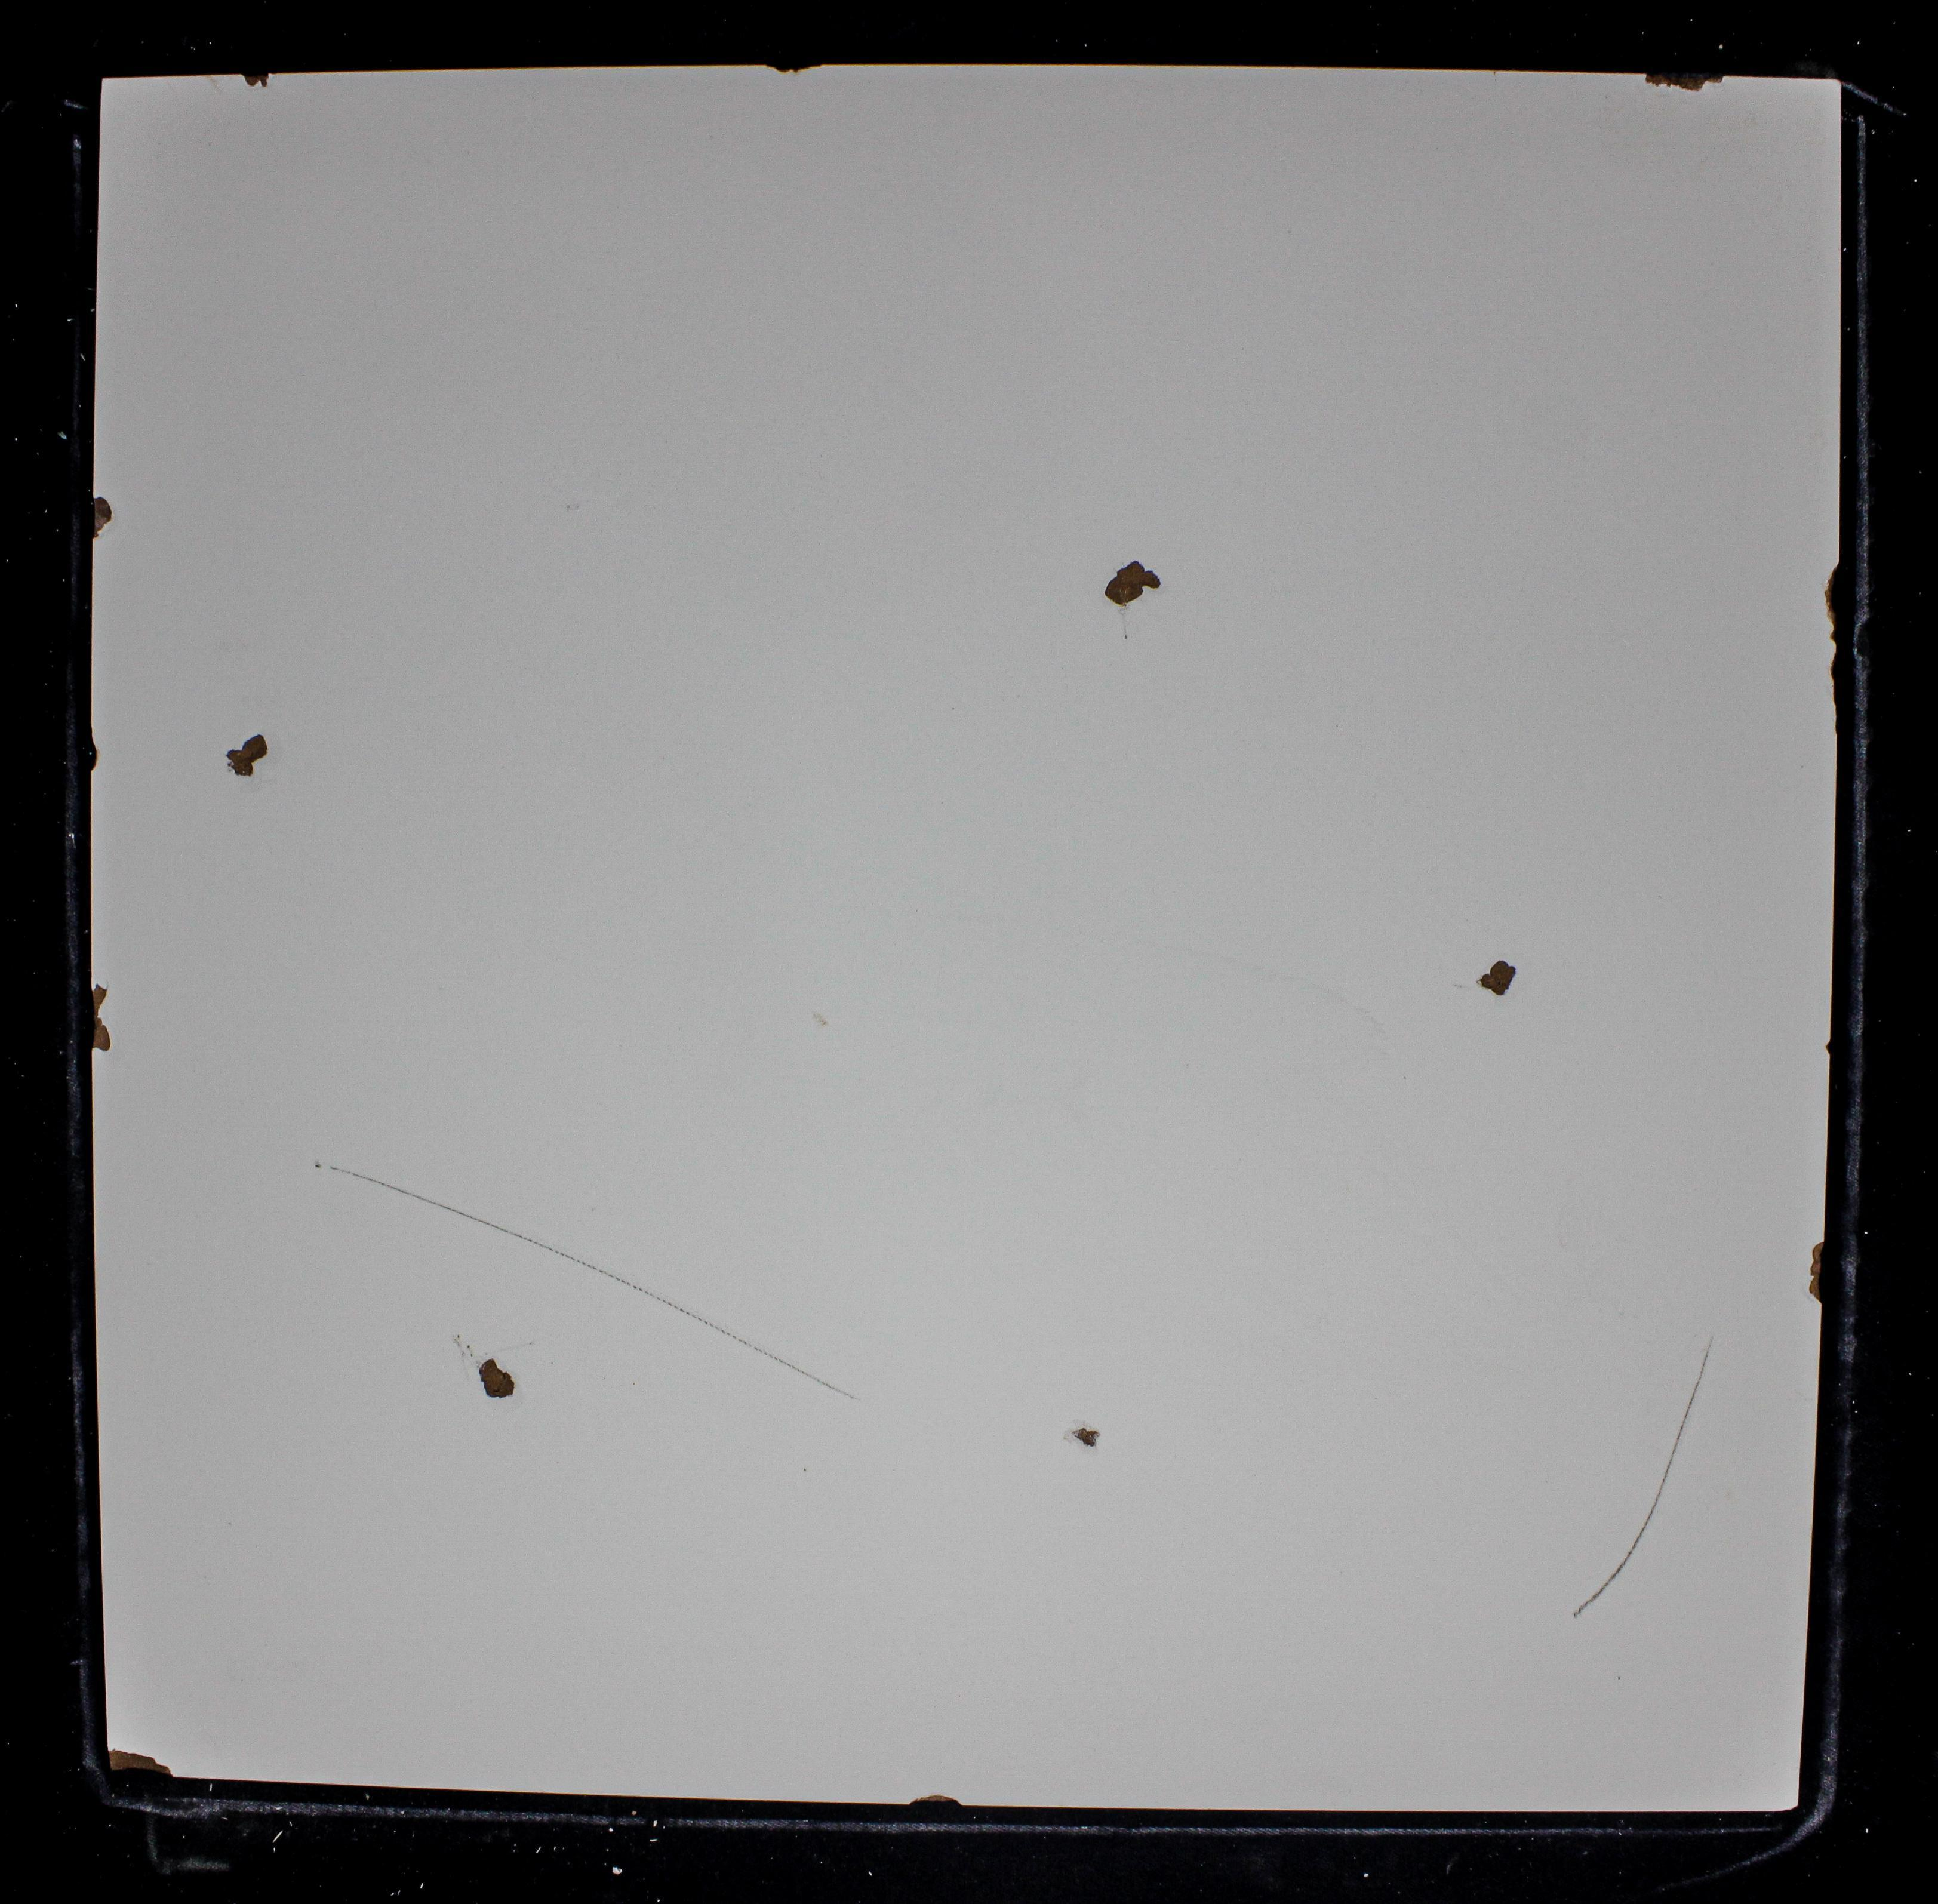edge-chipping: (1823, 565, 1847, 746), (1642, 68, 1725, 94), (106, 1749, 174, 1778), (87, 980, 112, 1053), (84, 495, 113, 544), (1807, 1241, 1828, 1304), (763, 61, 823, 75), (906, 1794, 964, 1808), (87, 736, 103, 774), (241, 70, 270, 89)
hole: (1096, 551, 1169, 617), (225, 732, 272, 781), (476, 1355, 516, 1400), (1476, 957, 1521, 996), (1070, 1423, 1101, 1451)
line: (1570, 1339, 1715, 1620), (598, 1269, 854, 1395), (329, 1166, 594, 1266)
